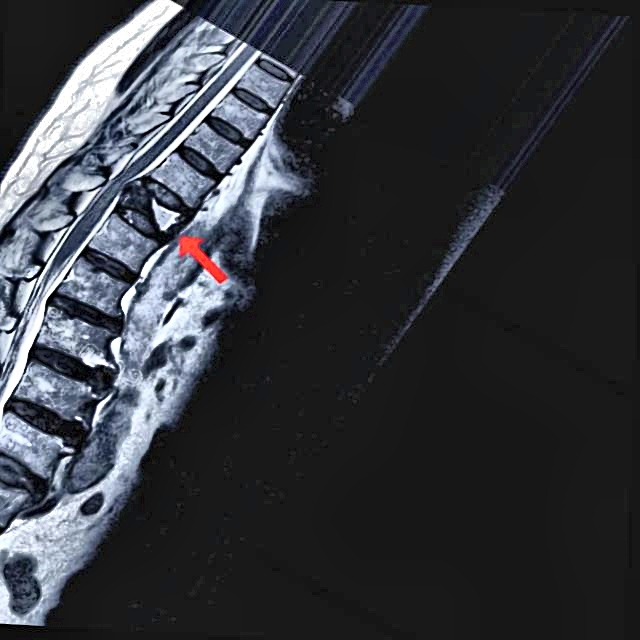Comminuted: (103, 170, 200, 247)
